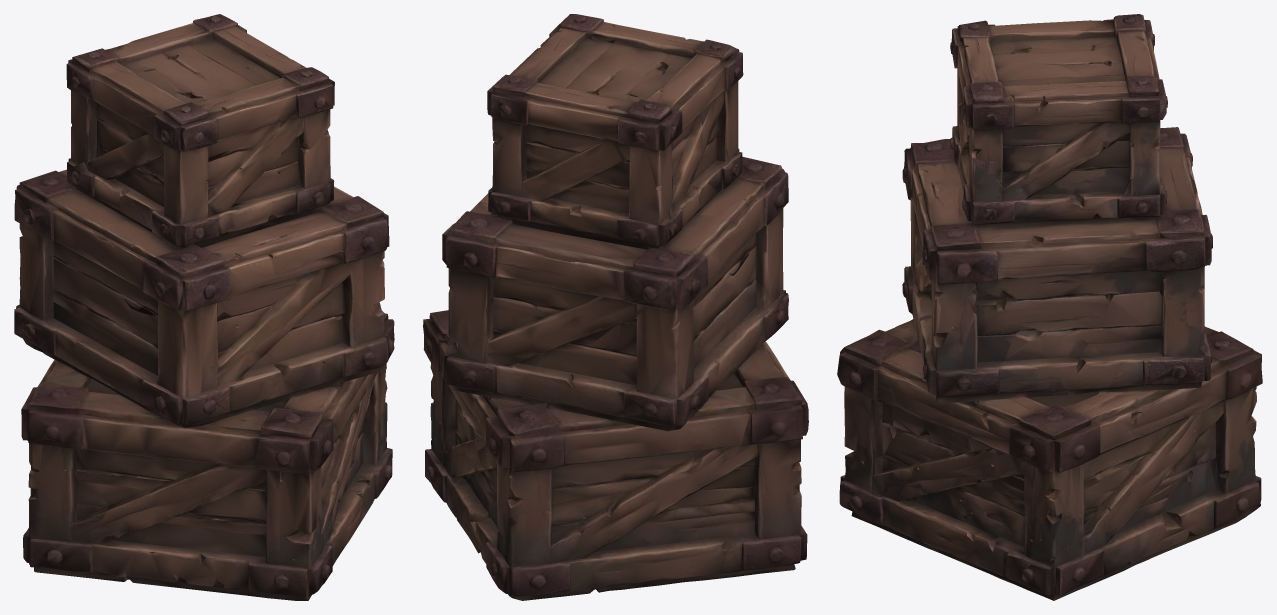
The model's file is crates_stack_idle.glb.
3 renders of one model, left to right at view 1: azimuth 30°, elevation 25°; view 2: azimuth 150°, elevation 25°; view 3: azimuth 270°, elevation 25°, orthographic.
Visible parts, largest first — view 1: tripo_node_f43a6ea4-c59c-4680-bfdb-a538515bbbda; view 2: tripo_node_f43a6ea4-c59c-4680-bfdb-a538515bbbda; view 3: tripo_node_f43a6ea4-c59c-4680-bfdb-a538515bbbda.
Boxes of the visible parts, <box> form: tripo_node_f43a6ea4-c59c-4680-bfdb-a538515bbbda: <box>14,14,394,600</box>; tripo_node_f43a6ea4-c59c-4680-bfdb-a538515bbbda: <box>423,14,808,600</box>; tripo_node_f43a6ea4-c59c-4680-bfdb-a538515bbbda: <box>837,14,1262,600</box>.
Size of the model in its own units: 1.25 by 1.5 by 1.25.
Materials: 1 (1 with a texture image).
